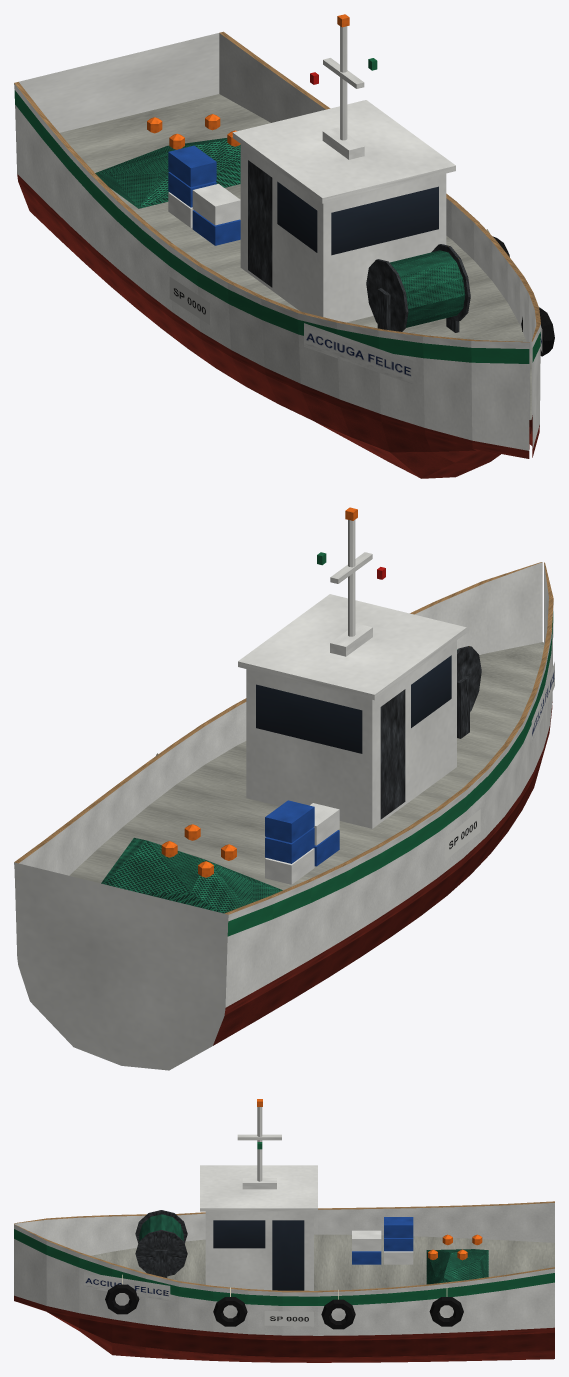
File: SM_Molo_Peschereccio11.fbx
The picture shows the model from 3 angles, top to bottom: view 1: azimuth 30°, elevation 25°; view 2: azimuth 150°, elevation 25°; view 3: azimuth 270°, elevation 25°; orthographic projection. The views are drawn at different scales.
Visible parts, largest first — view 1: SM_Molo_Peschereccio11; view 2: SM_Molo_Peschereccio11; view 3: SM_Molo_Peschereccio11.
Boxes of the visible parts, x1,y1,x2,y2 form: SM_Molo_Peschereccio11: (14, 14, 554, 478); SM_Molo_Peschereccio11: (14, 507, 554, 1070); SM_Molo_Peschereccio11: (14, 1099, 554, 1362).
Size of the model in its own units: 425 by 1100 by 557.
1 material, 1 textured.
